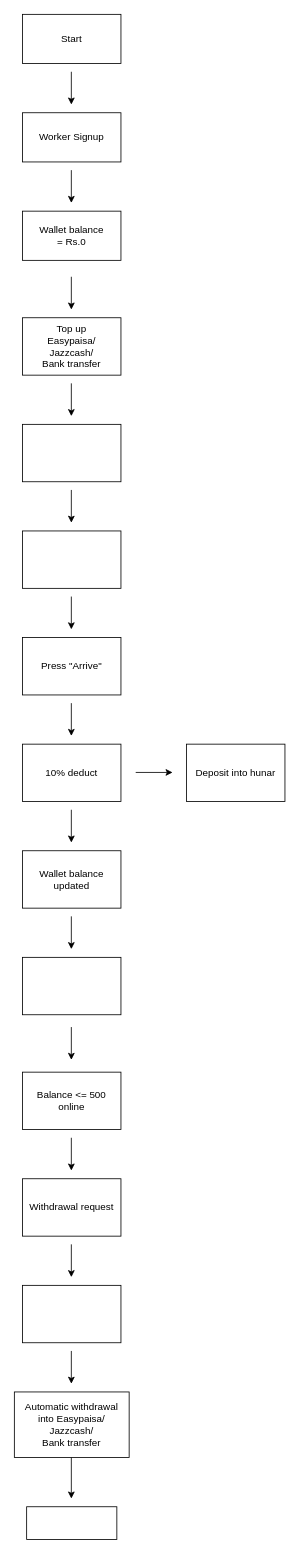
The diagram is 299 pixels wide and 1554 high, and some of its shapes have lost their labels. Here are the shapes that lost their labels. From the top down, the box of each, then its label:
(22, 424, 121, 482): Worker balance = Rs.500
(22, 530, 121, 588): Worker job
(22, 957, 121, 1015): Balance >= 500 offline
(22, 1285, 121, 1343): Minimum Rs.100 + Balance sufficient
(26, 1506, 117, 1540): End
